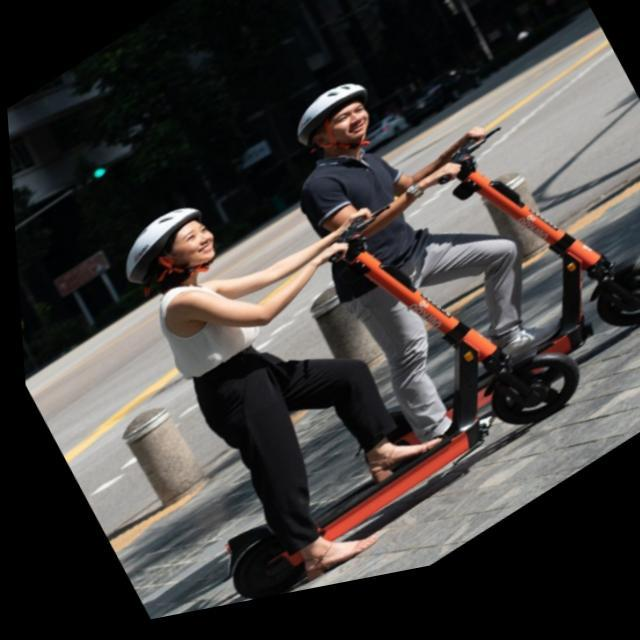Helmet: (116, 194, 226, 289), (289, 73, 381, 161)
